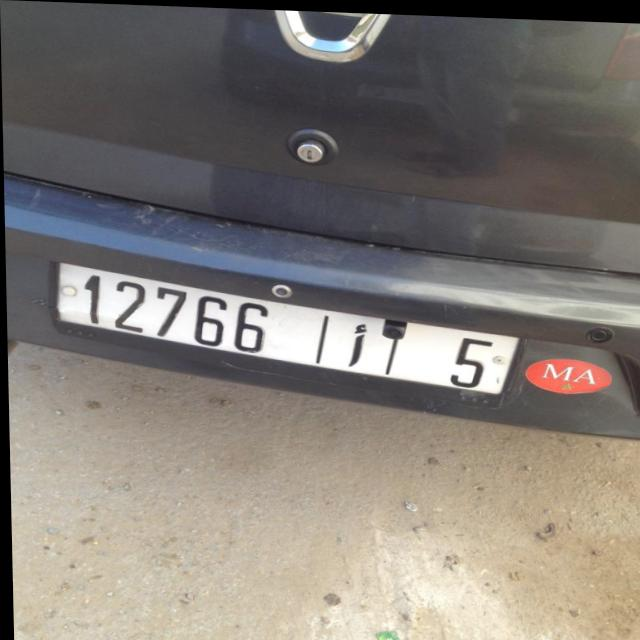License-Plate: (55, 263, 517, 390)
